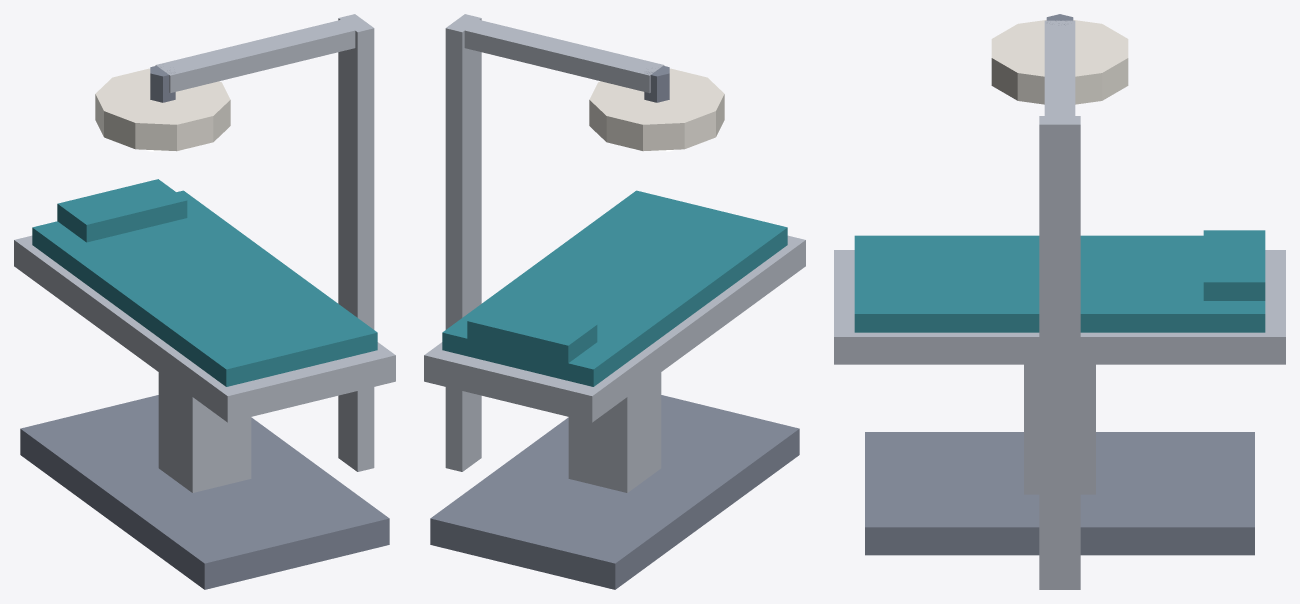
The model's file is operating-table.glb.
3 renders of one model, left to right at view 1: azimuth 30°, elevation 25°; view 2: azimuth 150°, elevation 25°; view 3: azimuth 270°, elevation 25°, orthographic. The views are drawn at different scales.
Visible parts, largest first — view 1: operating-table; view 2: operating-table; view 3: operating-table.
Part boxes in pixels (box(x1,y1,x2,y2)): operating-table: box(14, 14, 395, 589); operating-table: box(424, 14, 805, 589); operating-table: box(834, 14, 1285, 589).
Bounding box in the file's own units: 0.62 × 1 × 0.88.
Materials: 1 (1 with a texture image).
